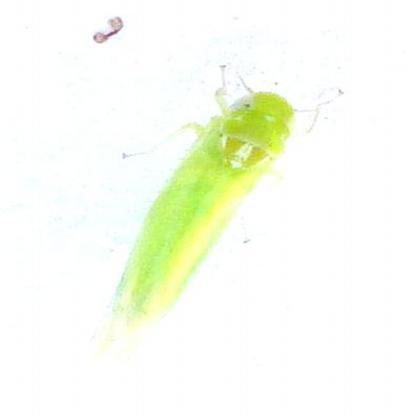green-leafhopper: (110, 86, 301, 334)
